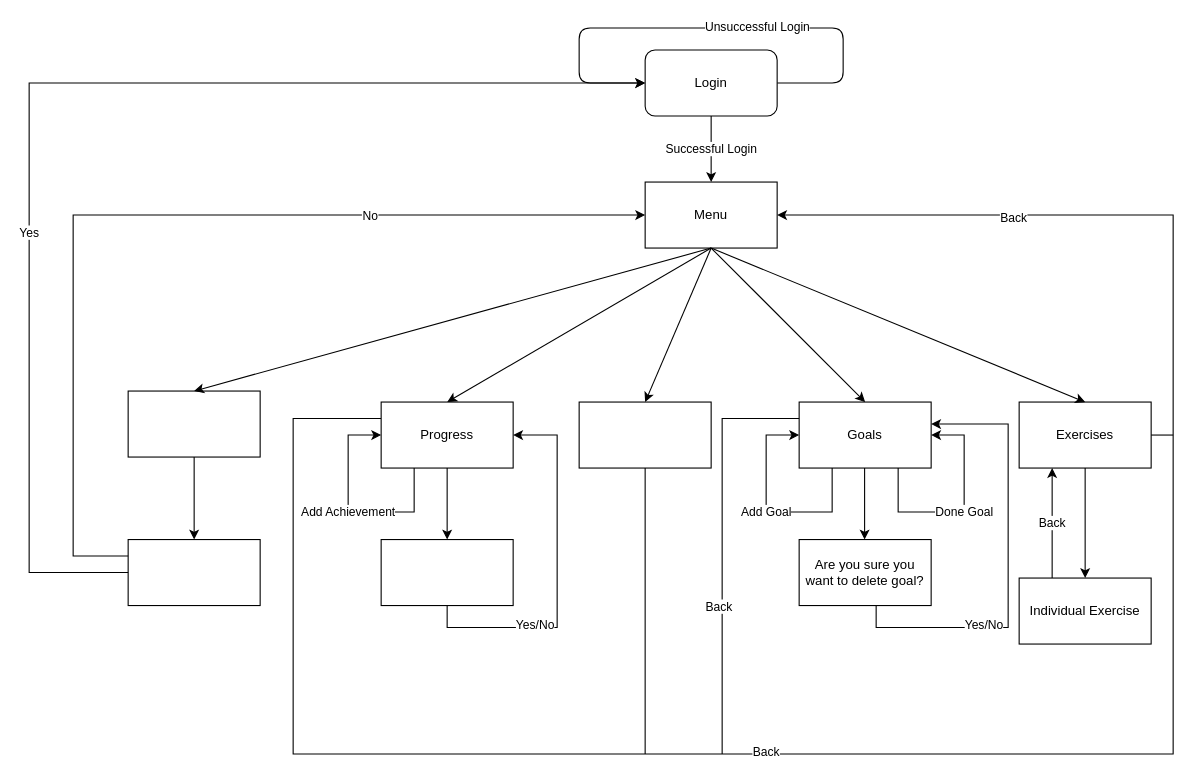
The diagram is 1201 pixels wide and 782 high, and some of its shapes have lost their labels. The shapes that lost their labels are listed below. From the top down, each one's centre as x and y in pixels, then its label:
At point 193,423: "Log Out".
At point 644,434: "Information".
At point 193,572: "Are you sure you want to log out?".
At point 446,572: "Are you sure you want to delete achievement?".
